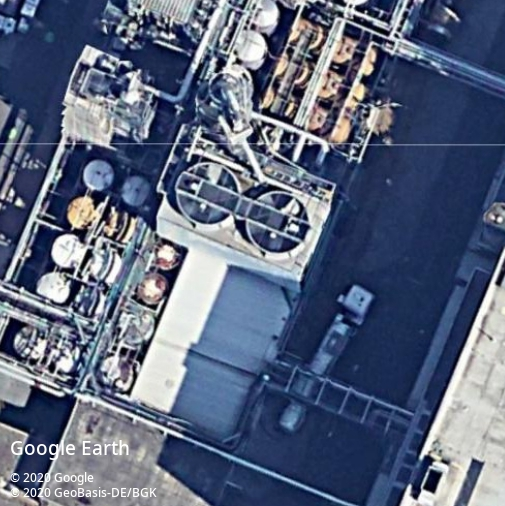Vent: (175, 162, 240, 225), (246, 191, 311, 254)
